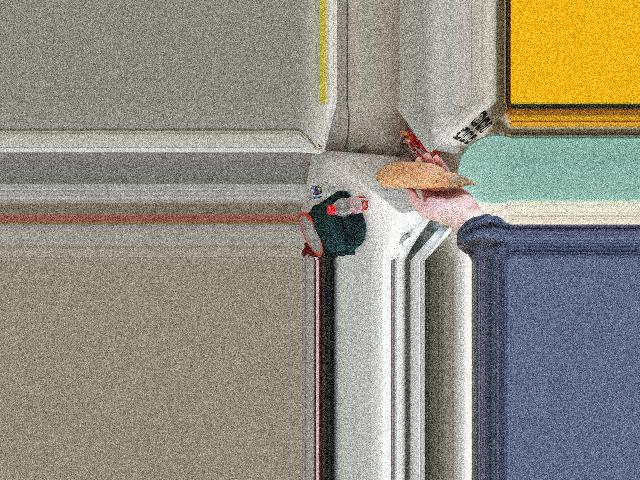sweet_potato: (375, 162, 471, 192)
